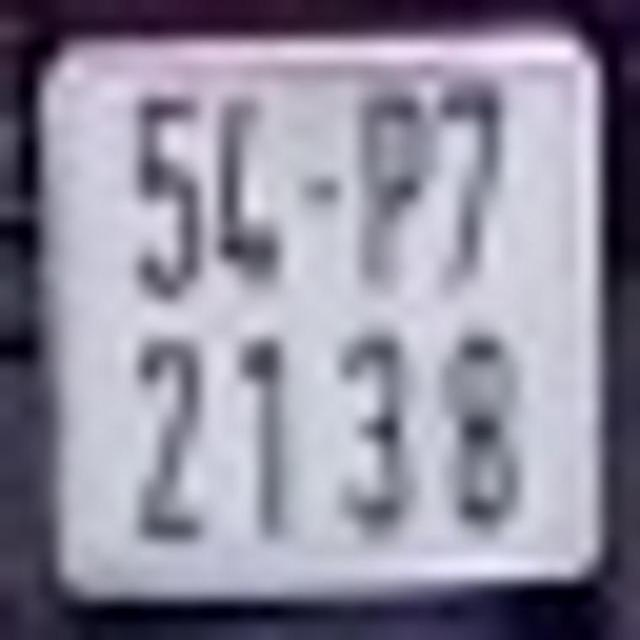1: (237, 335, 288, 539)
2: (133, 335, 209, 543)
3: (334, 329, 411, 533)
4: (216, 97, 286, 304)
5: (133, 92, 205, 300)
7: (436, 87, 506, 298)
8: (444, 328, 523, 528)
F: (356, 94, 430, 300)
